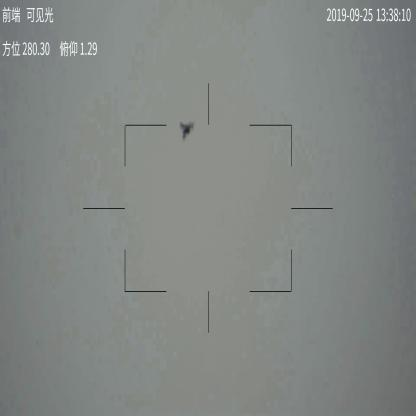uav: (179, 120, 196, 143)
